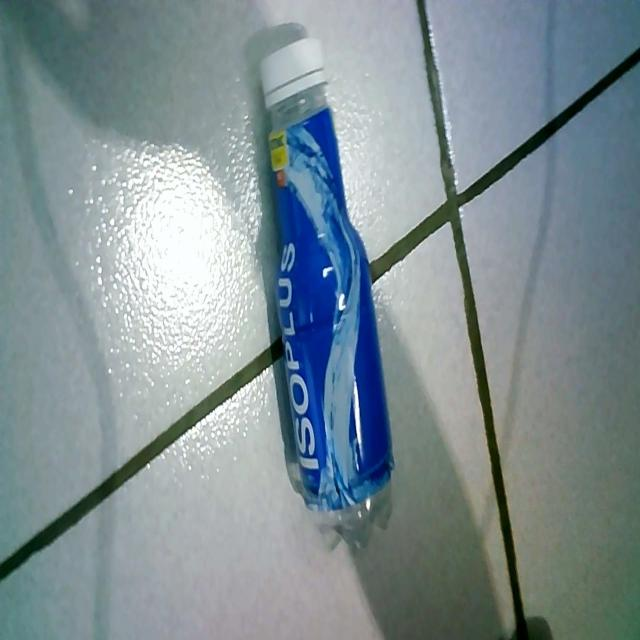botol: (234, 20, 416, 547)
